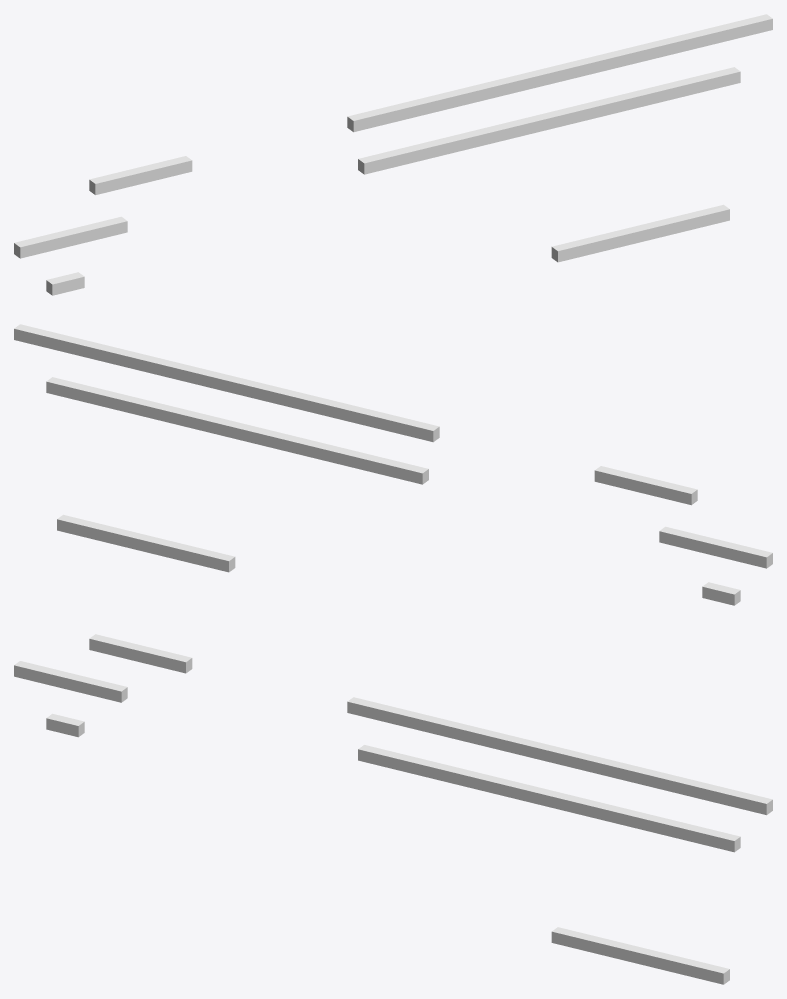
The model's file is Fight_026_2_11_fx.obj.
The picture shows the model from 3 angles, top to bottom: view 1: azimuth 30°, elevation 25°; view 2: azimuth 150°, elevation 25°; view 3: azimuth 330°, elevation 25°; orthographic projection.
Bounding box in the file's own units: 7 × 1.7 × 0.1.
